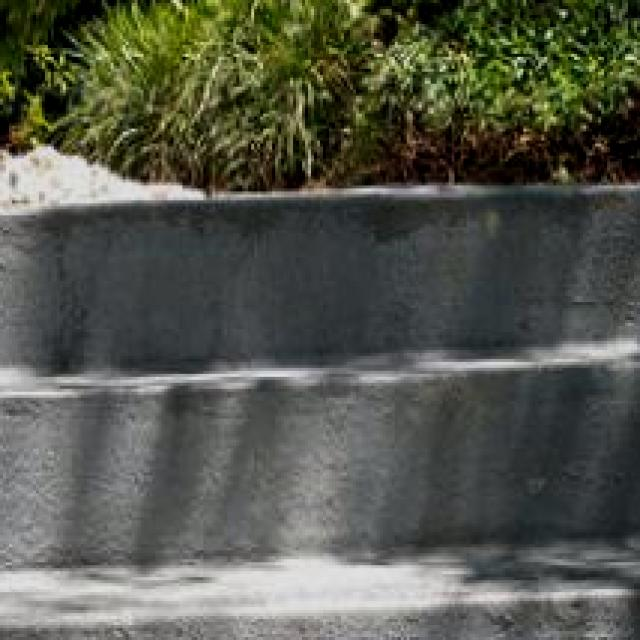upstair: (49, 184, 593, 498)
